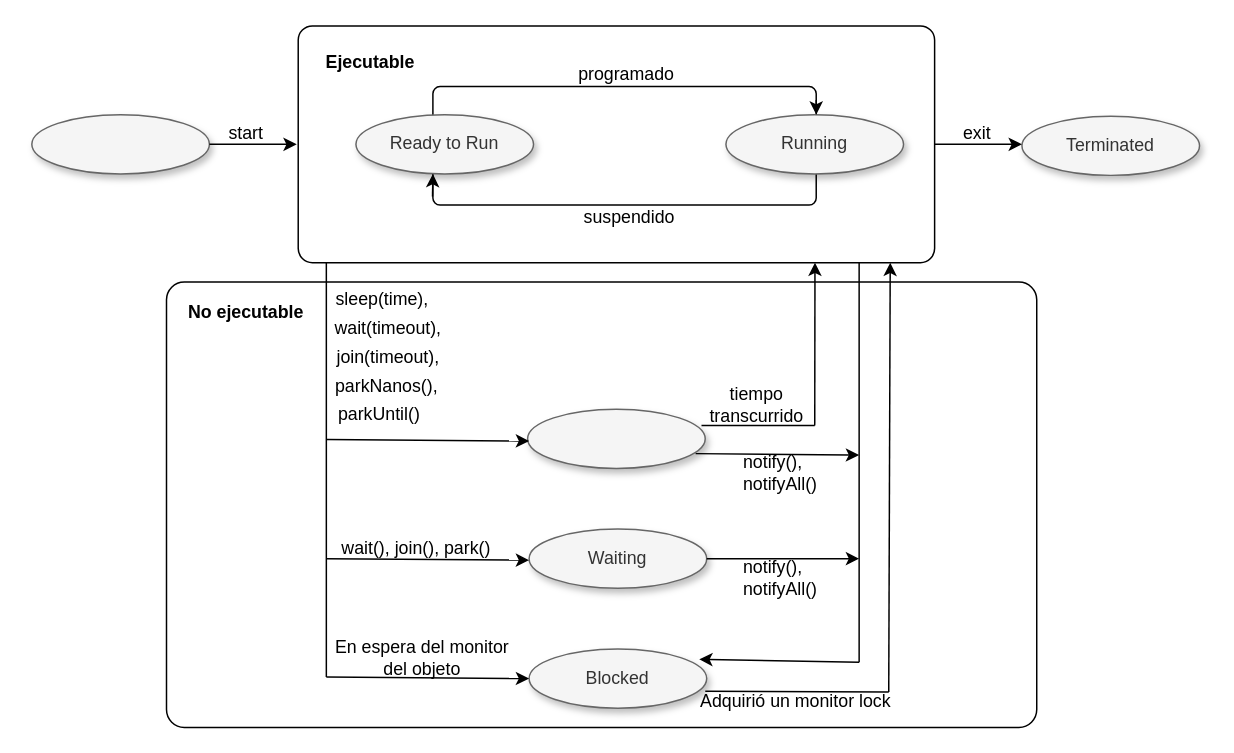
This 1234x753 diagram has some shape labels left out. The centre of each missing label's shape, as x and y in pixels:
"New" goes at point 121,145.
"Timed Waiting" goes at point 617,440.
